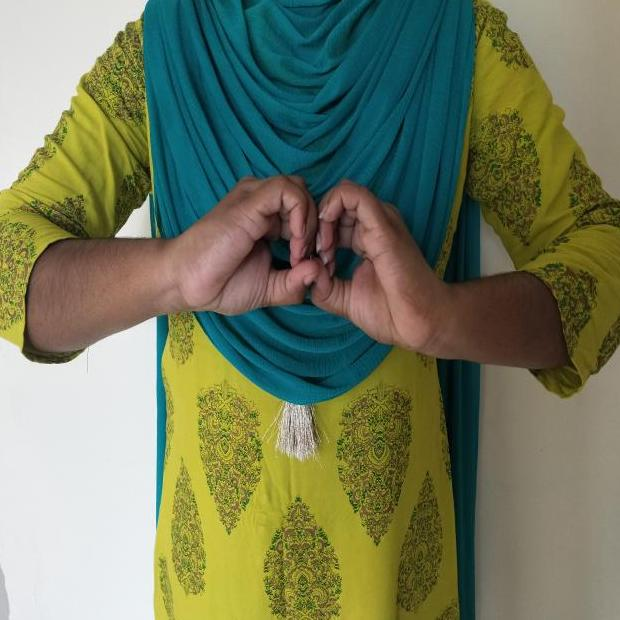A: (167, 159, 457, 368)
